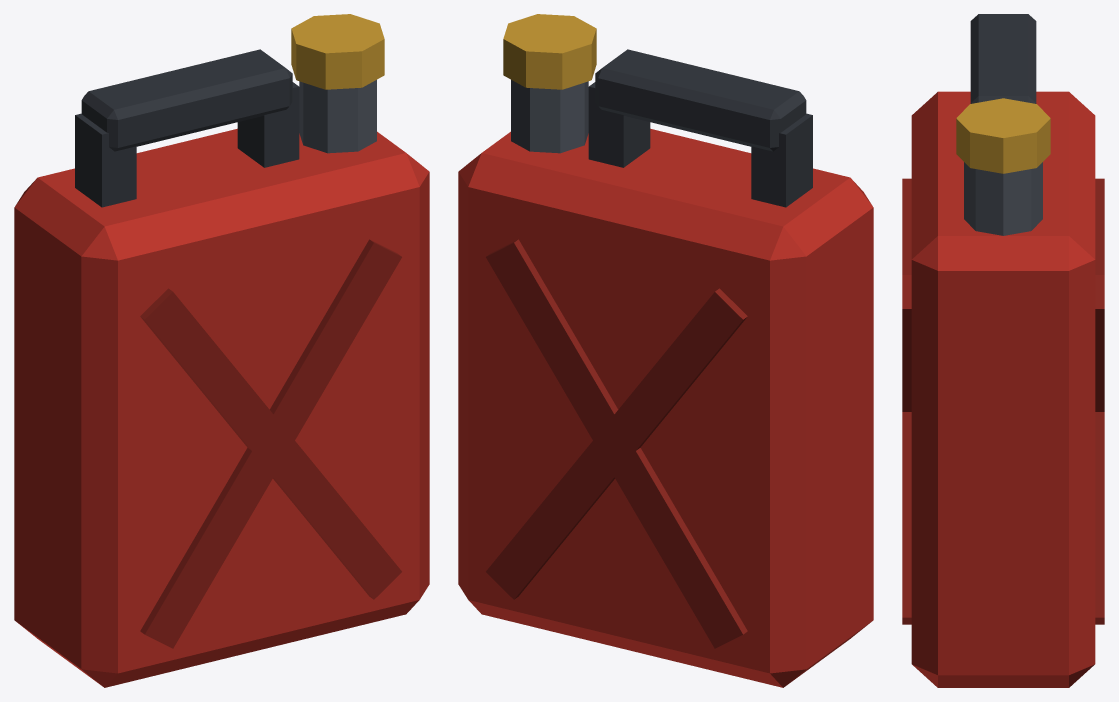
The model's file is fuel_can.glb.
3 views of the same model, side by side, from view 1: azimuth 30°, elevation 25°; view 2: azimuth 150°, elevation 25°; view 3: azimuth 270°, elevation 25° (orthographic). The views are drawn at different scales.
Visible parts, largest first — view 1: FuelCan; view 2: FuelCan; view 3: FuelCan.
Boxes of the visible parts, x1=… form: FuelCan: x1=14, y1=14, x2=429, y2=687; FuelCan: x1=458, y1=14, x2=873, y2=687; FuelCan: x1=902, y1=14, x2=1104, y2=687.
Bounding box in the file's own units: 0.3 × 0.465 × 0.154.
